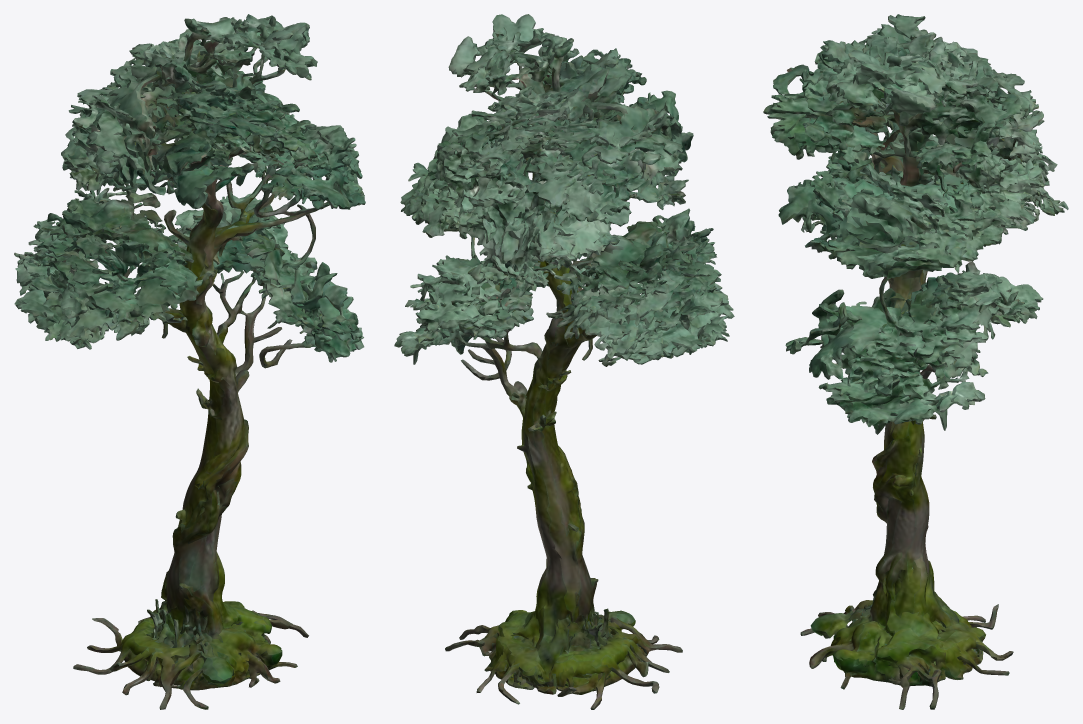
File: moon-tall-tree.glb
The picture shows the model from 3 angles, left to right: view 1: azimuth 30°, elevation 25°; view 2: azimuth 150°, elevation 25°; view 3: azimuth 270°, elevation 25°; orthographic projection. The views are drawn at different scales.
Parts seen in each view (by area): view 1: geometry_0; view 2: geometry_0; view 3: geometry_0.
Part boxes in pixels (x1=…): geometry_0: x1=14, y1=14, x2=365, y2=709; geometry_0: x1=394, y1=14, x2=734, y2=709; geometry_0: x1=763, y1=14, x2=1068, y2=709.
Size of the model in its own units: 1.34 by 2.5 by 1.08.
Materials: 1 (1 with a texture image).
